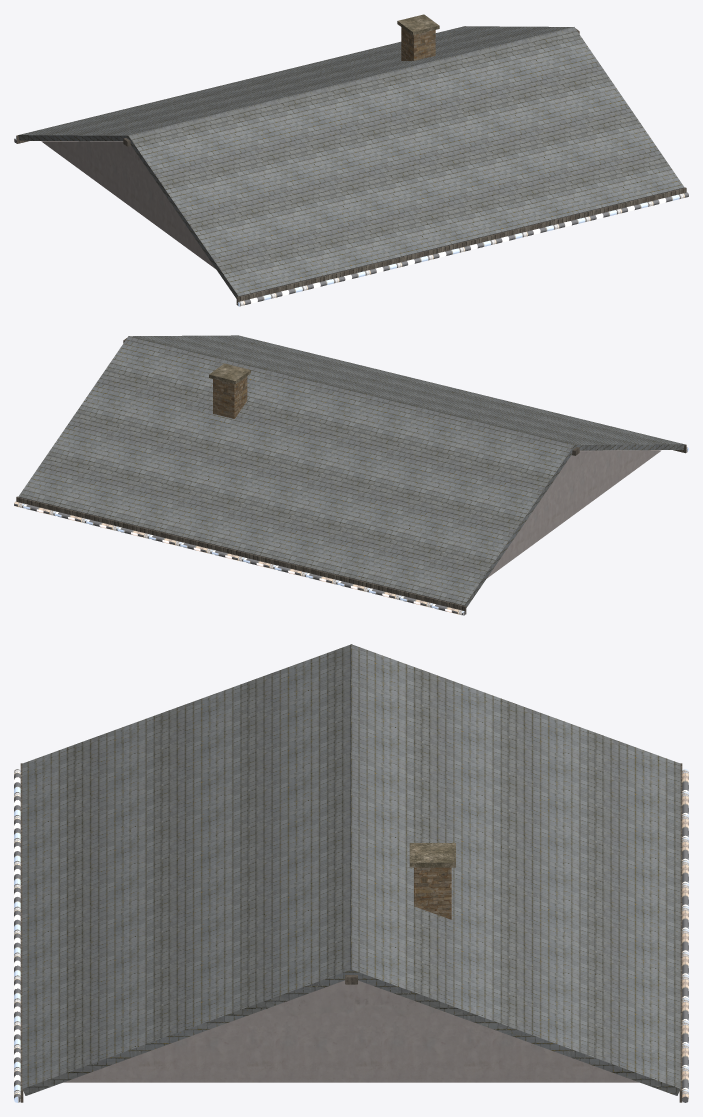
Rendered from roof.glb.
3 renders of one model, top to bottom at view 1: azimuth 30°, elevation 25°; view 2: azimuth 150°, elevation 25°; view 3: azimuth 270°, elevation 25°, orthographic. The views are drawn at different scales.
Parts seen in each view (by area): view 1: roof; view 2: roof; view 3: roof.
Boxes of the visible parts, x1=… form: roof: x1=14, y1=14, x2=688, y2=306; roof: x1=14, y1=335, x2=688, y2=615; roof: x1=14, y1=644, x2=688, y2=1102.
Size of the model in its own units: 14.4 by 3.15 by 12.45.
Materials: 6 (5 with a texture image).
